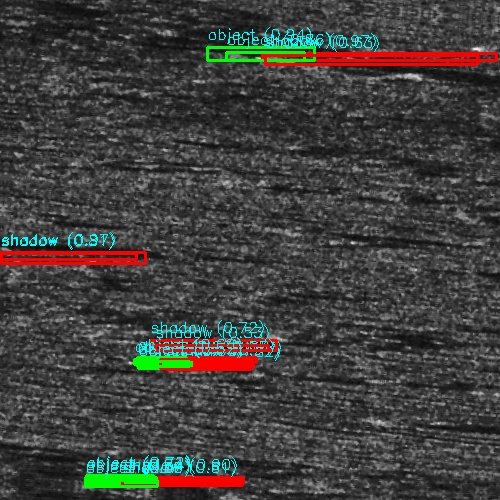rock: (112, 341, 195, 352), (221, 51, 304, 60), (409, 400, 462, 413), (85, 478, 158, 483), (138, 366, 191, 371), (393, 60, 434, 63)
shadow: (263, 51, 500, 60), (0, 253, 143, 264), (154, 341, 279, 352), (436, 400, 500, 413), (122, 478, 245, 483), (165, 366, 249, 371), (414, 60, 500, 63)
